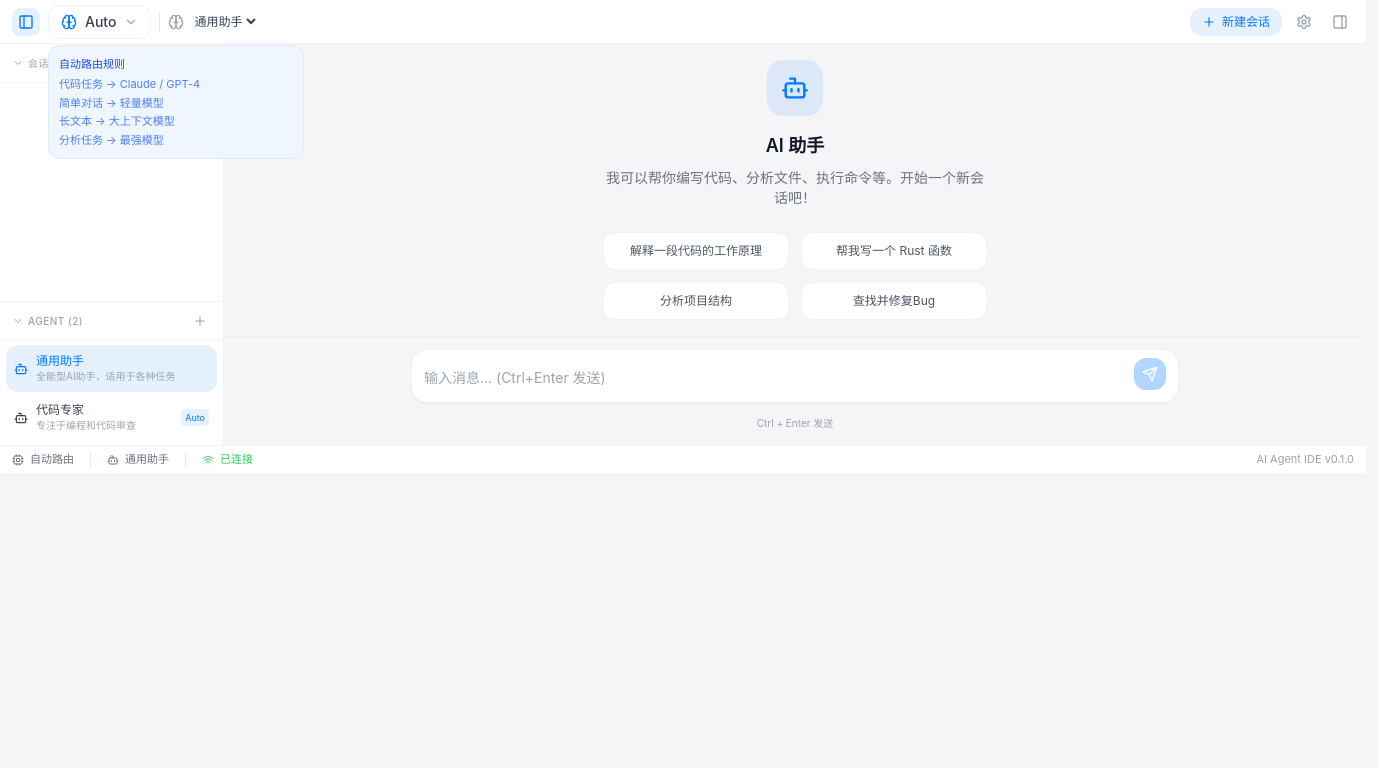
Test: AgentIDE › toggles right panel visibility
Note: 点击显示右侧面板
Click the button titled "切换工具面板".
click(1340, 22)  # box [1326,8,1354,36]
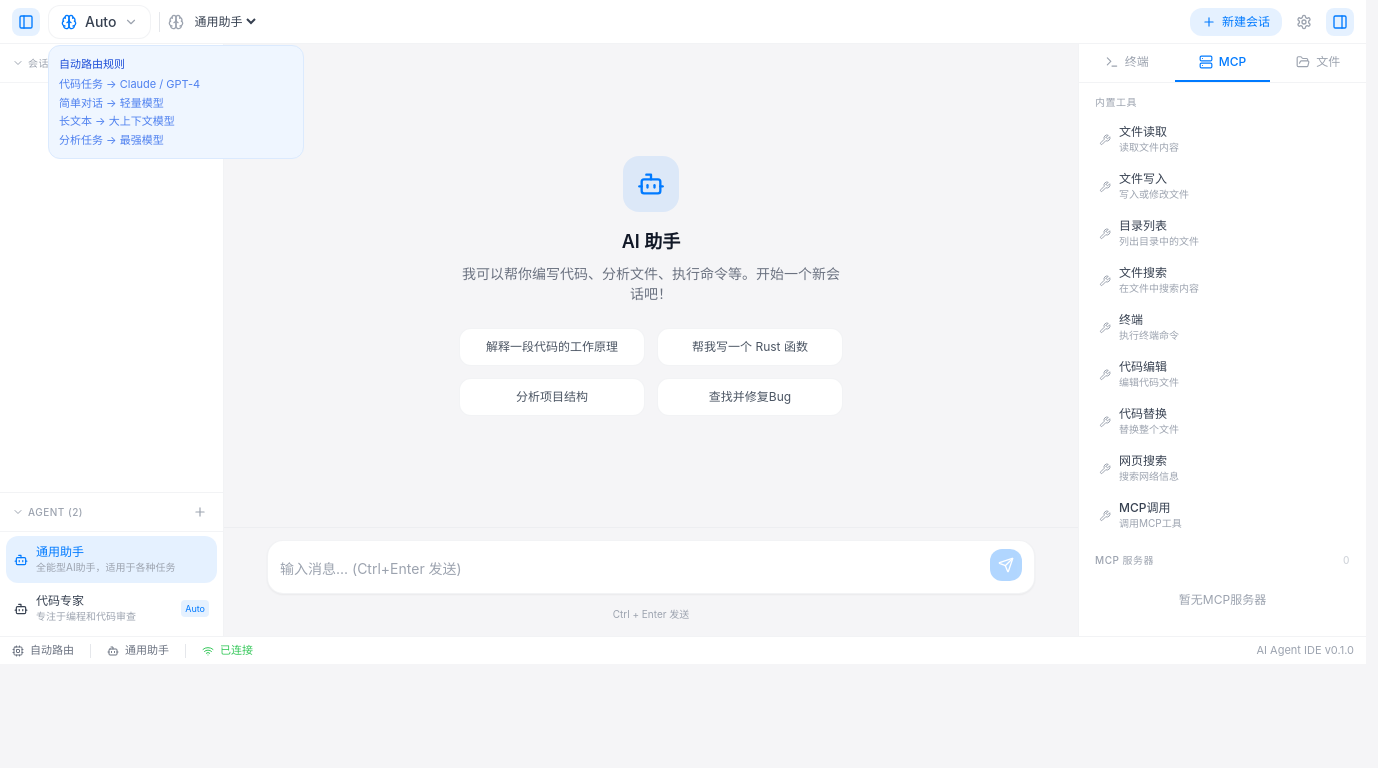
Expected: the button "MCP" is shown, [1175,44,1270,82]
